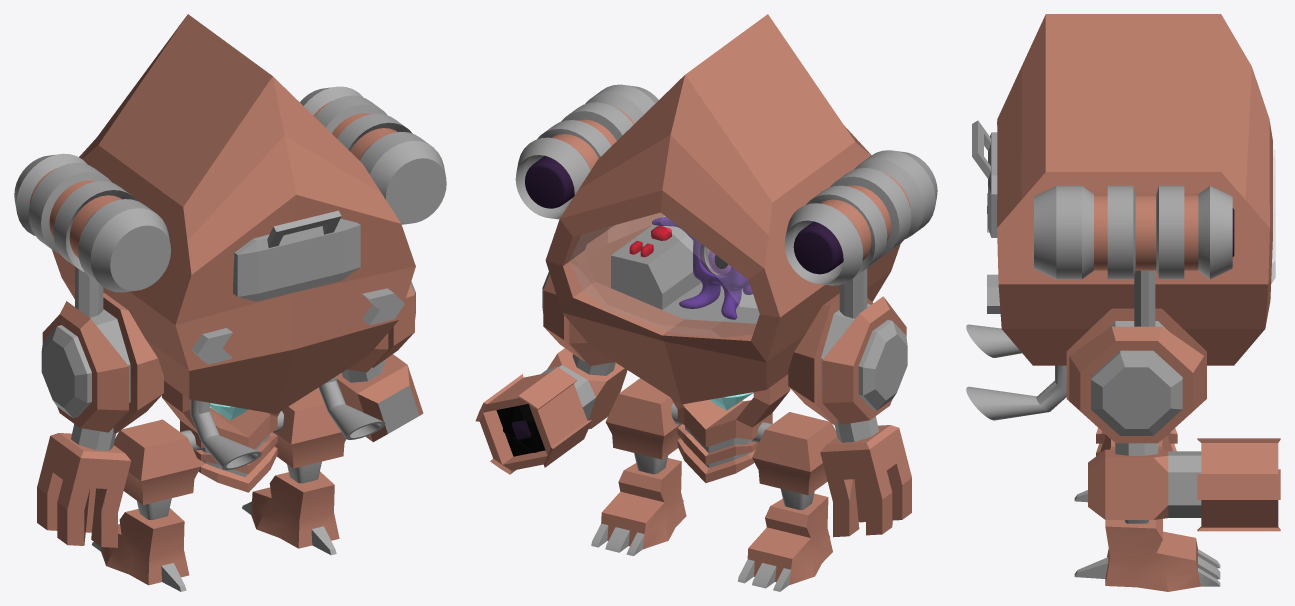
File: mecha.fbx
3 views of the same model, side by side, from view 1: azimuth 30°, elevation 25°; view 2: azimuth 150°, elevation 25°; view 3: azimuth 270°, elevation 25° (orthographic). The views are drawn at different scales.
Visible parts, largest first — view 1: Cube.005, Cylinder.001, Cube.007, Cube, Cube.002, Cube.018, Cube.009, Cube.004, Elbow Joint, Cube.010, Cube.015, Cube.008 (+2 smaller); view 2: Cube.005, Cylinder.001, Plane, Cube.007, Cube, Cube.002, Cube.011, Cube.009, Cube.004, Cube.013, Cube.012, Cube.010 (+3 smaller); view 3: Cube.005, Cylinder.001, Cube.007, Cube.011, Cube.010, Cube, Elbow Joint, Cube.018, Cube.014, Cube.008, Cube.015, Plane.
Part boxes in pixels (bbox=[...]): Cube.005: bbox=[52, 14, 415, 413]; Cylinder.001: bbox=[14, 86, 446, 292]; Cube.007: bbox=[41, 281, 415, 433]; Cube: bbox=[92, 471, 339, 591]; Cube.002: bbox=[114, 387, 346, 504]; Cube.018: bbox=[233, 210, 360, 301]; Cube.009: bbox=[37, 433, 130, 547]; Cube.004: bbox=[162, 381, 279, 492]; Elbow Joint: bbox=[190, 376, 385, 470]; Cube.010: bbox=[336, 354, 423, 442]; Cube.015: bbox=[191, 288, 404, 364]; Cube.008: bbox=[71, 360, 384, 450]; Cube.005: bbox=[545, 14, 900, 404]; Cylinder.001: bbox=[515, 84, 937, 285]; Plane: bbox=[569, 213, 759, 337]; Cube.007: bbox=[542, 272, 907, 425]; Cube: bbox=[591, 458, 832, 591]; Cube.002: bbox=[605, 378, 836, 495]; Cube.011: bbox=[475, 367, 591, 474]; Cube.009: bbox=[820, 425, 911, 537]; Cube.004: bbox=[671, 374, 790, 482]; Cube.013: bbox=[611, 216, 701, 309]; Cube.012: bbox=[652, 217, 752, 319]; Cube.010: bbox=[541, 348, 627, 428]; Cube.005: bbox=[997, 14, 1272, 365]; Cylinder.001: bbox=[1034, 185, 1234, 279]; Cube.007: bbox=[1066, 308, 1206, 443]; Cube.011: bbox=[1197, 438, 1280, 531]; Cube.010: bbox=[1088, 449, 1201, 519]; Cube: bbox=[1074, 490, 1220, 591]; Elbow Joint: bbox=[966, 324, 1066, 420]; Cube.018: bbox=[972, 120, 997, 237]; Cube.014: bbox=[1134, 270, 1155, 326]; Cube.008: bbox=[1115, 443, 1158, 455]; Cube.015: bbox=[987, 193, 1000, 313]; Plane: bbox=[1271, 149, 1275, 283].
Size of the model in its own units: 1379 by 1839 by 1001.
